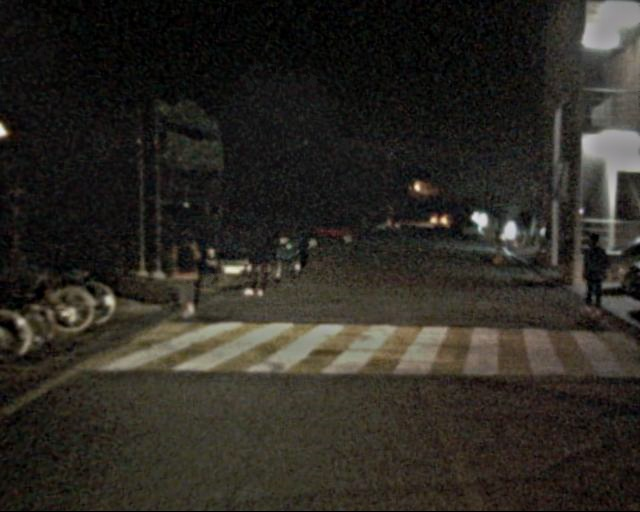person: (167, 230, 205, 324), (237, 217, 275, 301), (575, 237, 612, 318)
